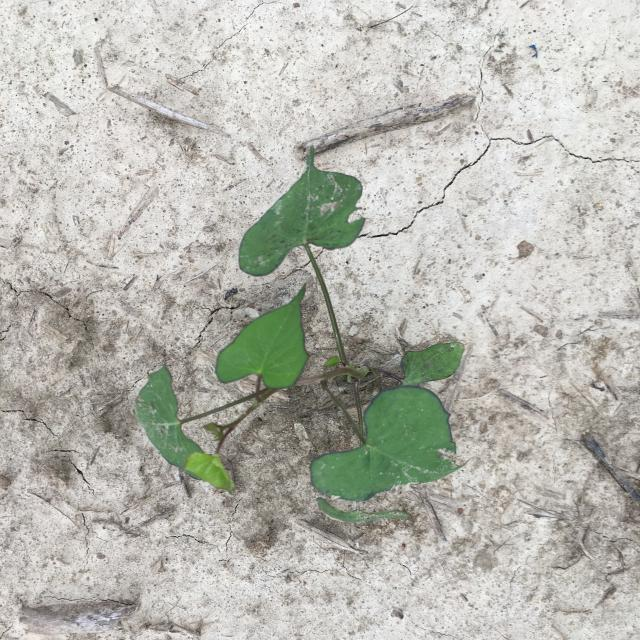MorningGlory: (135, 146, 465, 524)
